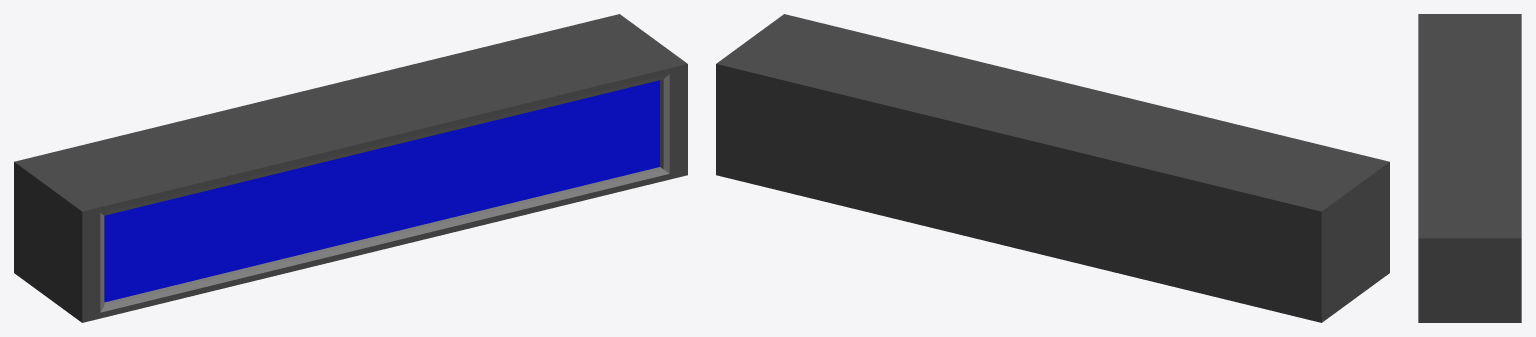
The model's file is display.glb.
3 views of the same model, side by side, from view 1: azimuth 30°, elevation 25°; view 2: azimuth 150°, elevation 25°; view 3: azimuth 270°, elevation 25° (orthographic). The views are drawn at different scales.
Visible parts, largest first — view 1: Display; view 2: Display; view 3: Display.
Boxes of the visible parts, box(x1,y1,x2,y2) form: Display: box(14, 14, 687, 322); Display: box(716, 14, 1389, 322); Display: box(1418, 14, 1521, 322).
Size of the model in its own units: 0.5196 by 0.0913 by 0.1013.
